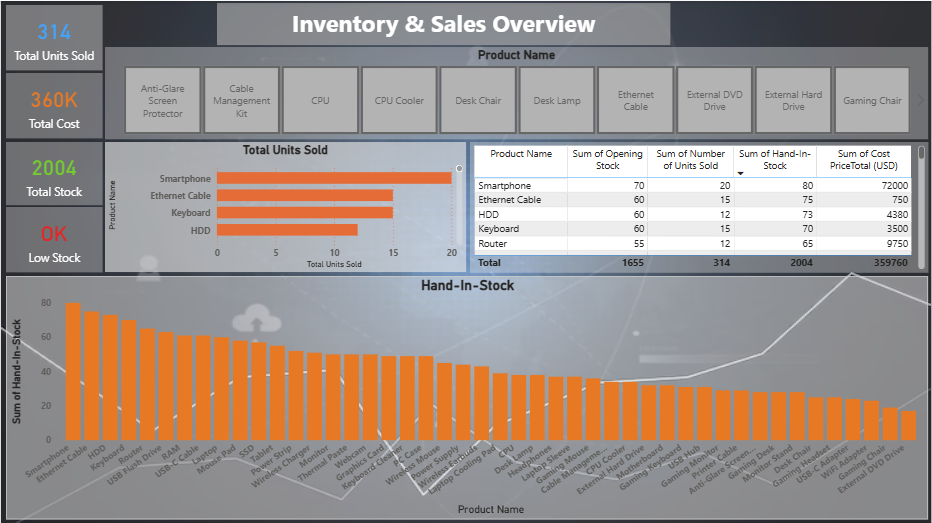

The page's visual inventory and layout, read from the dashboard file:
{"tool":"powerbi","page":{"name":"Page 1","canvas":[1280,720],"ordinal":0},"visuals":[{"type":"clusteredBarChart","title":"Total Units Sold","fields":{"Category":["Inventory Records Data.Product Name"],"Y":["Inventory Records Data.Total Units Sold"]},"box":[143.1,193.8,496.9,179.4],"z":0},{"type":"tableEx","fields":{"Values":["Inventory Records Data.Product Name","Sum(Inventory Records Data.Opening Stock)","Sum(Inventory Records Data.Number of Units Sold)","Sum(Inventory Records Data.Hand-In-Stock)","Sum(Inventory Records Data.Cost PriceTotal (USD))"]},"box":[645,193.9,631.1,180],"z":1000},{"type":"slicer","title":"Product Name","fields":{"Values":["Inventory Records Data.Product Name"]},"box":[142.8,62.8,1133.3,127.2],"z":2000},{"type":"textbox","box":[297.9,2.1,624.3,57.9],"z":3000},{"type":"card","fields":{"Values":["Inventory Records Data.Total Stock"]},"box":[6.5,193.5,132.6,87],"z":4000},{"type":"card","fields":{"Values":["Inventory Records Data.Total Units Sold"]},"box":[6.5,5.7,132.6,90],"z":5000},{"type":"card","fields":{"Values":["Inventory Records Data.Total Cost"]},"box":[6.5,99.1,132.6,90],"z":6000},{"type":"card","fields":{"Values":["Inventory Records Data.Low Stock"]},"box":[6.5,283.5,132.6,89.6],"z":7000},{"type":"columnChart","title":"Hand-In-Stock ","fields":{"Category":["Inventory Records Data.Product Name"],"Y":["Sum(Inventory Records Data.Hand-In-Stock)"]},"box":[7.2,378.9,1268.9,335],"z":8000}]}

Visuals, with their boxes in screenshot pixels (x1, y1, x2, y2), scaled from the page's 1280x720 canvas onto the 932x523 screenshot:
"Total Units Sold" clusteredBarChart: (x1=104, y1=141, x2=466, y2=271)
tableEx - Inventory Records Data.Product Name x Sum(Inventory Records Data.Opening Stock): (x1=470, y1=141, x2=929, y2=272)
"Product Name" slicer: (x1=104, y1=46, x2=929, y2=138)
textbox: (x1=217, y1=2, x2=671, y2=44)
card - Inventory Records Data.Total Stock: (x1=5, y1=141, x2=101, y2=204)
card - Inventory Records Data.Total Units Sold: (x1=5, y1=4, x2=101, y2=70)
card - Inventory Records Data.Total Cost: (x1=5, y1=72, x2=101, y2=137)
card - Inventory Records Data.Low Stock: (x1=5, y1=206, x2=101, y2=271)
"Hand-In-Stock " columnChart: (x1=5, y1=275, x2=929, y2=519)
